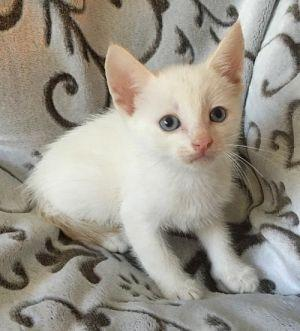siamese: (102, 19, 255, 175)
